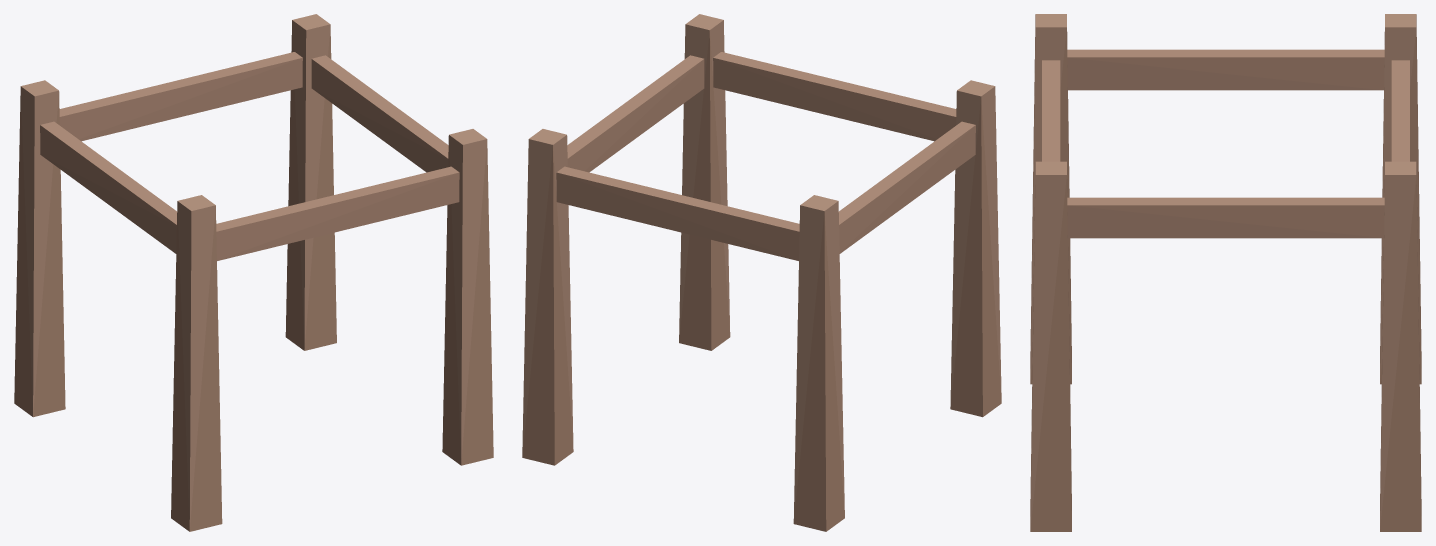
The model's file is ksv_structure.fbx.
3 views of the same model, side by side, from view 1: azimuth 30°, elevation 25°; view 2: azimuth 150°, elevation 25°; view 3: azimuth 270°, elevation 25° (orthographic). The views are drawn at different scales.
Parts seen in each view (by area): view 1: structure; view 2: structure; view 3: structure.
Boxes of the visible parts, x1,y1,x2,y2 form: structure: [14, 14, 493, 531]; structure: [522, 14, 1001, 531]; structure: [1030, 14, 1421, 531].
Bounding box in the file's own units: 50 × 50 × 50.
